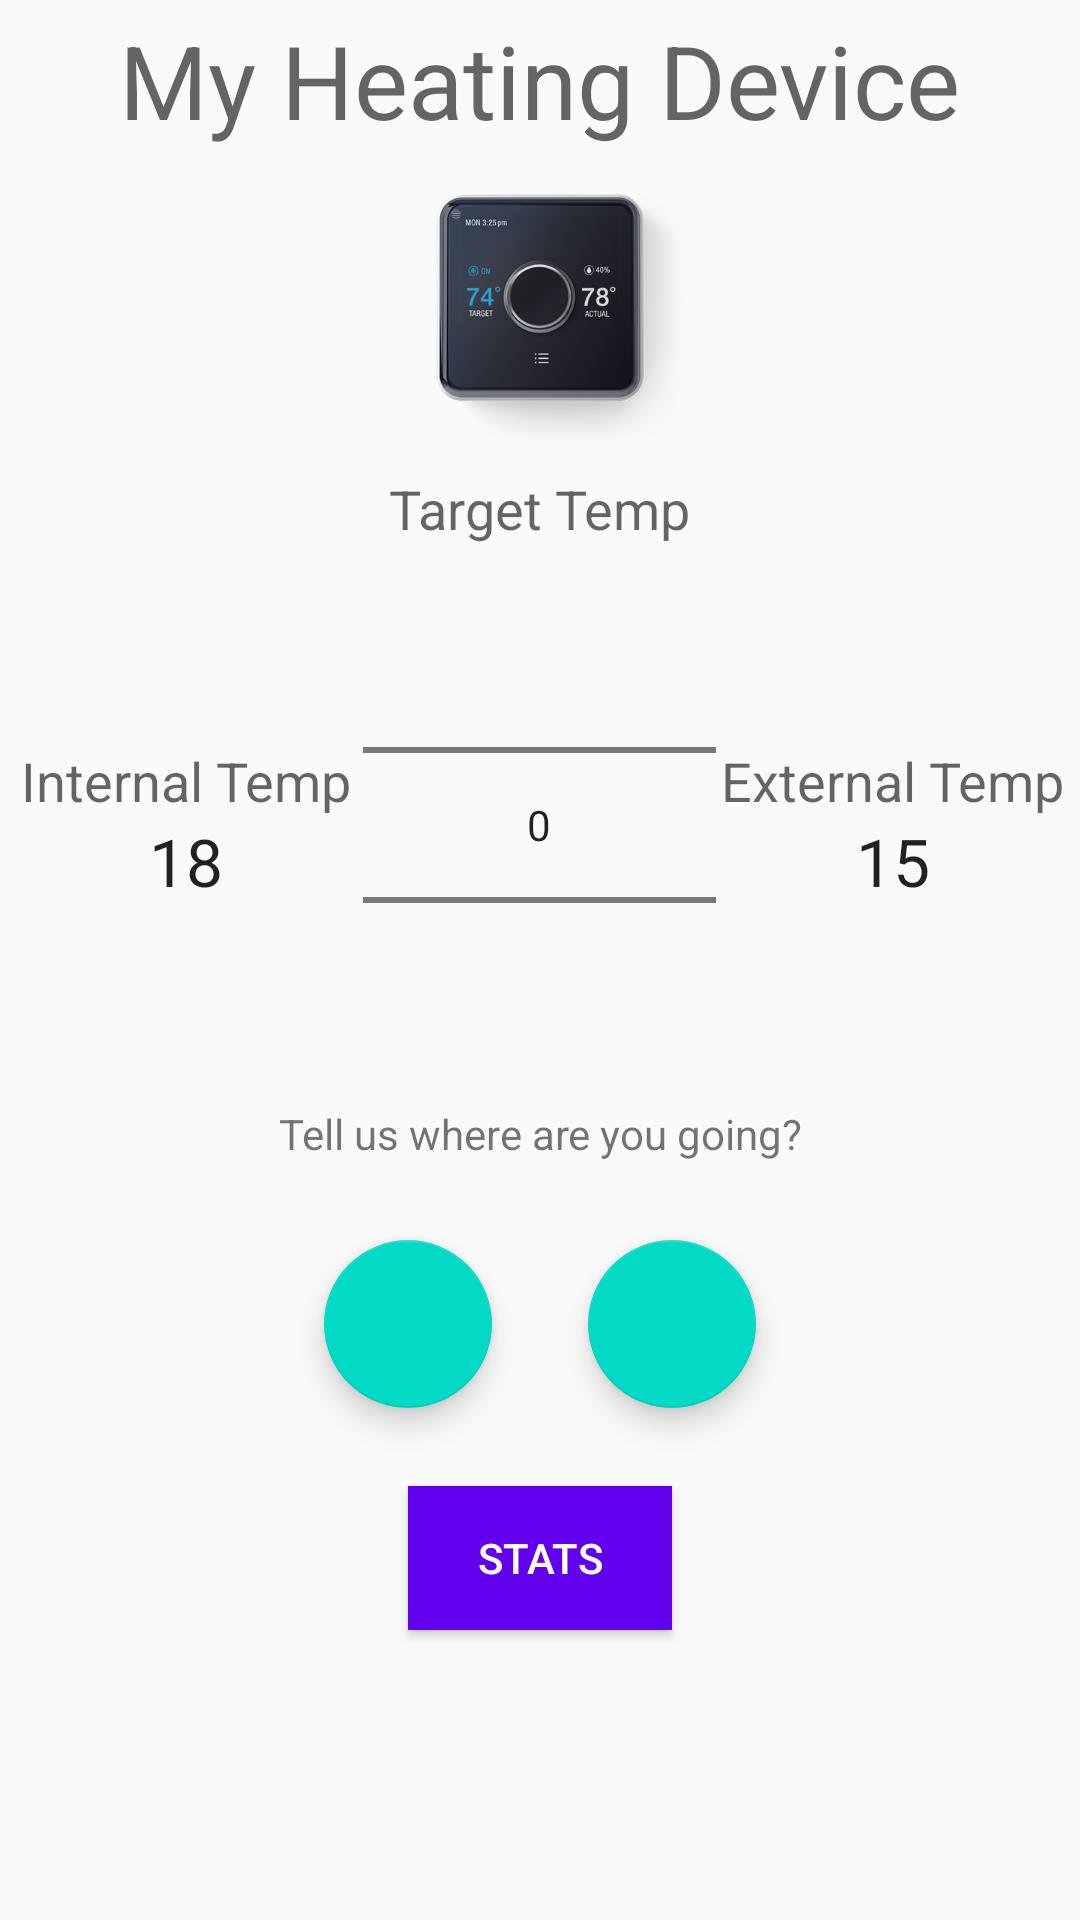

Named icons in this screenshot (1080 × 1920) and their centers, (x=x, y=y):
device render thermostat slt: (x=548, y=306)
